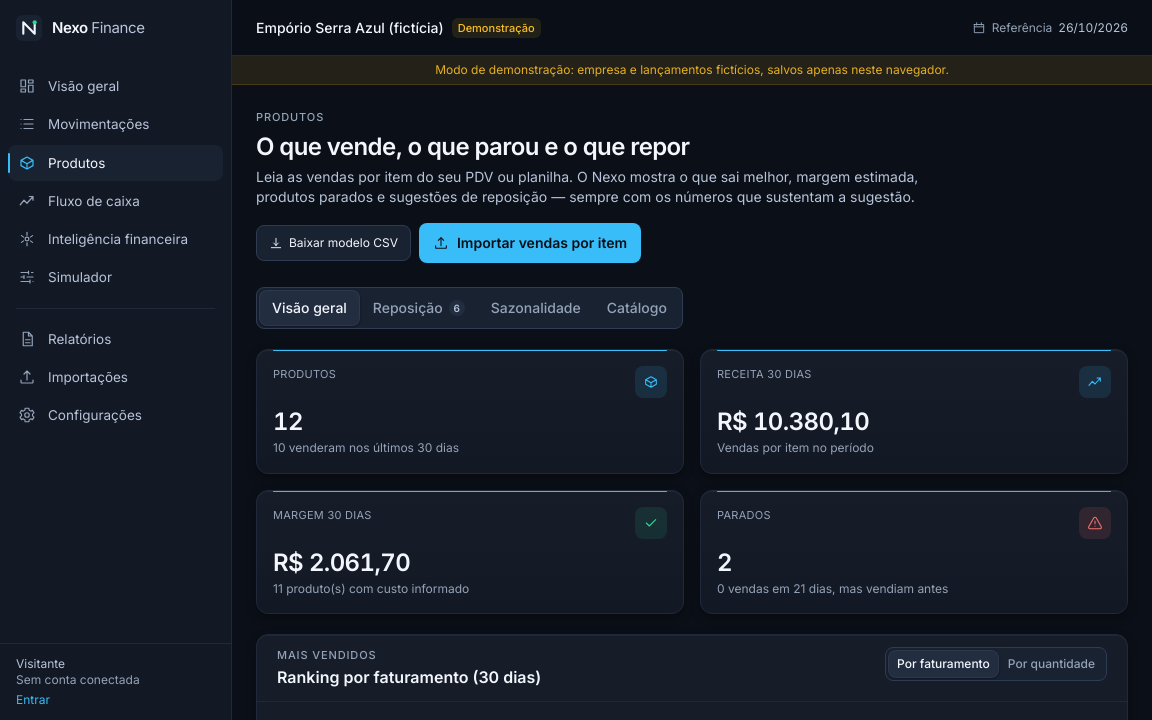
Test: navegação › produtos: cadastra evento local na sazonalidade
Expected: the heading "O que vende, o que parou e o que repor" is shown, top-left (256, 132), bottom-right (690, 161)
Click the radio button labelled "Sazonalidade" at (536, 308), box top-left (478, 290), bottom-right (594, 326)
(page scrolled)
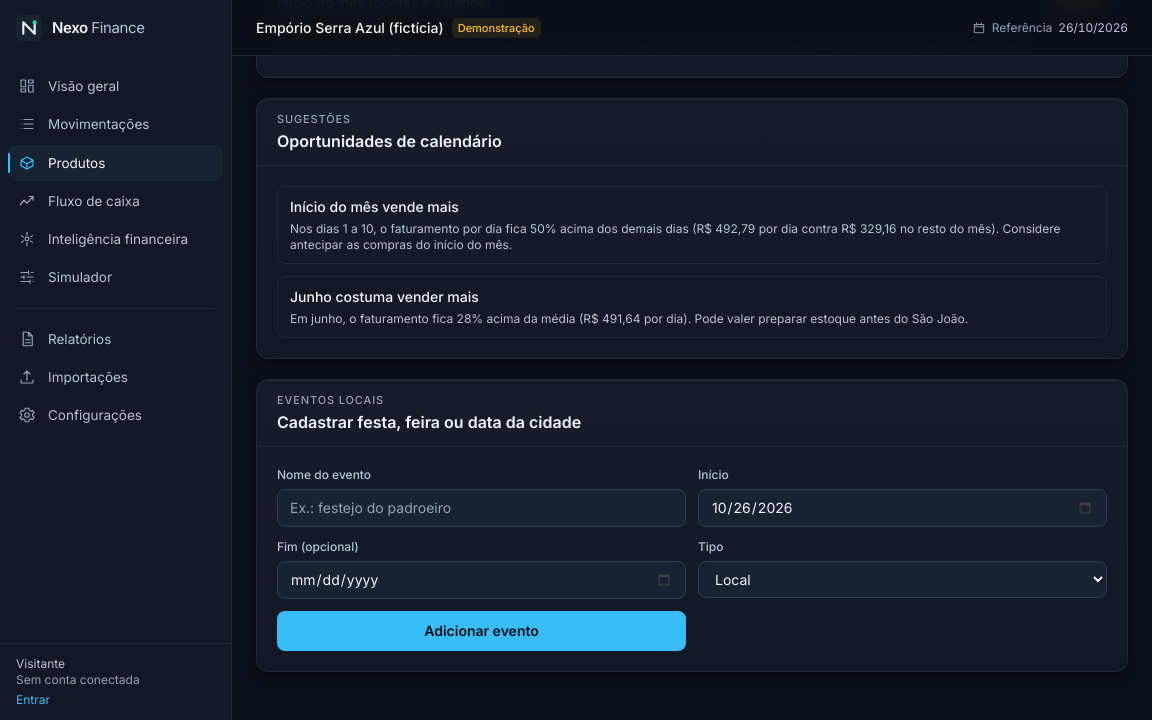
Type "Festejo do padroeiro" into the field labelled "Nome do evento" at (482, 508), box top-left (277, 489), bottom-right (686, 527)
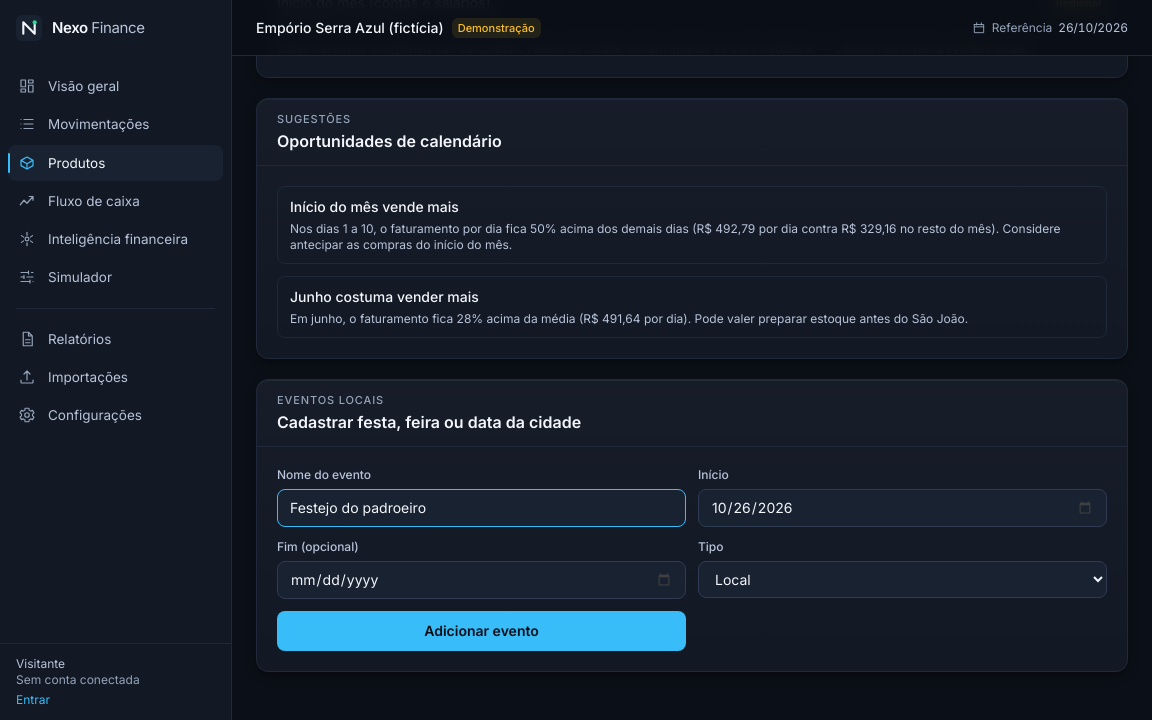
Click the button "Adicionar evento" at (482, 631), box top-left (277, 611), bottom-right (686, 651)
(page scrolled)
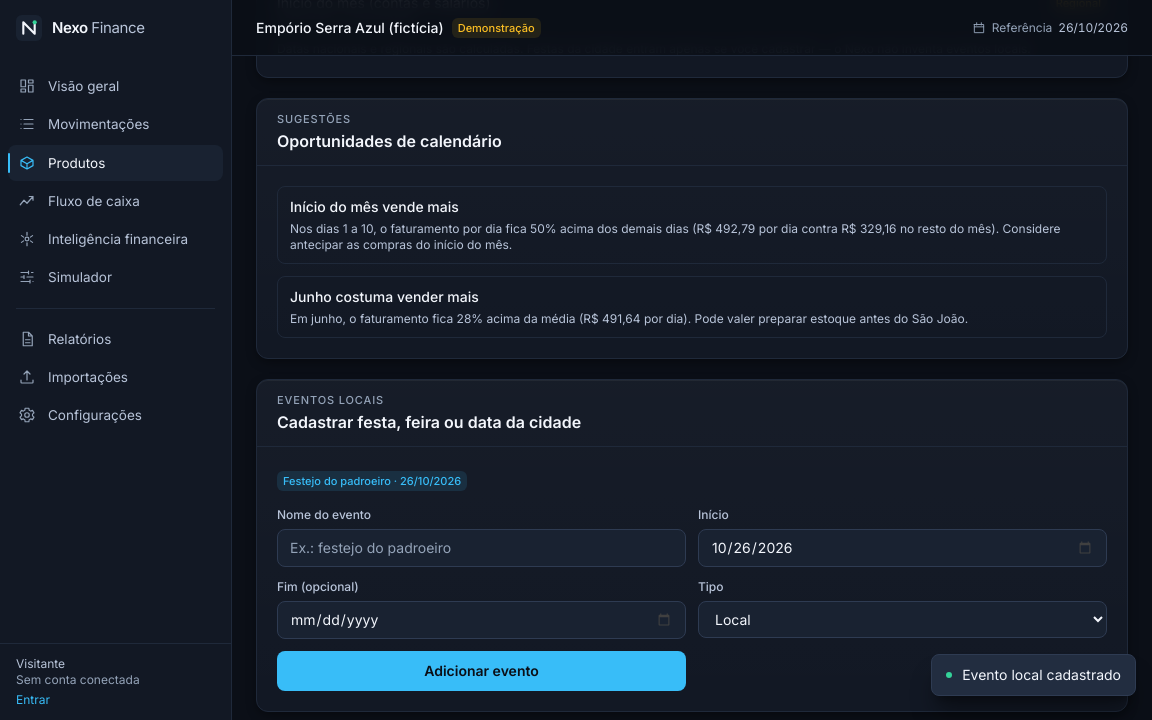
Expected: the text "Evento local cadastrado" is shown, top-left (931, 654), bottom-right (1136, 696)
Expected: the text "Festejo do padroeiro · 26/10/2026" is shown, top-left (277, 471), bottom-right (467, 491)
